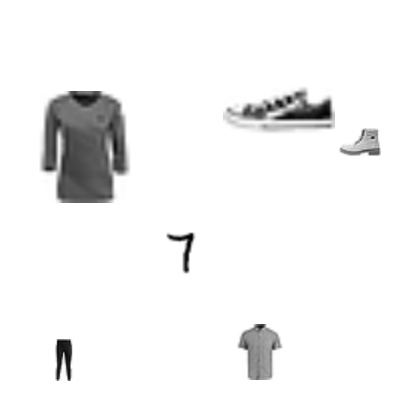7: (155, 219, 211, 275)
Ankle_boot: (339, 121, 381, 163)
Shirt: (232, 324, 288, 380)
Sneaker: (223, 52, 335, 164)
T-shirt/top: (29, 91, 141, 203)
Trouser: (42, 339, 84, 381)
